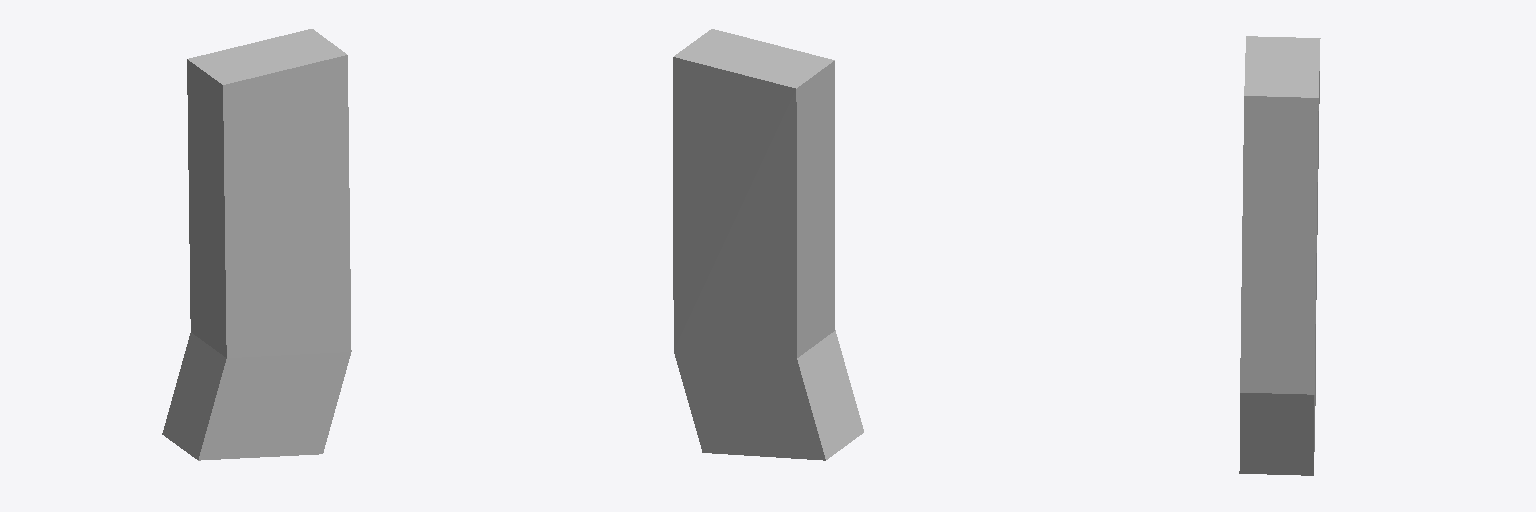
Rendered from model_assaultrifle_clip.obj.
3 renders of one model, left to right at view 1: azimuth 30°, elevation 25°; view 2: azimuth 150°, elevation 25°; view 3: azimuth 270°, elevation 25°, orthographic.
Visible parts, largest first — view 1: Cube.001; view 2: Cube.001; view 3: Cube.001.
Part boxes in pixels (left/top/right/bottom): Cube.001: left=162, top=29, right=351, bottom=460; Cube.001: left=673, top=29, right=863, bottom=460; Cube.001: left=1239, top=36, right=1320, bottom=475.
Size of the model in its own units: 1.48 by 3.59 by 0.6711.